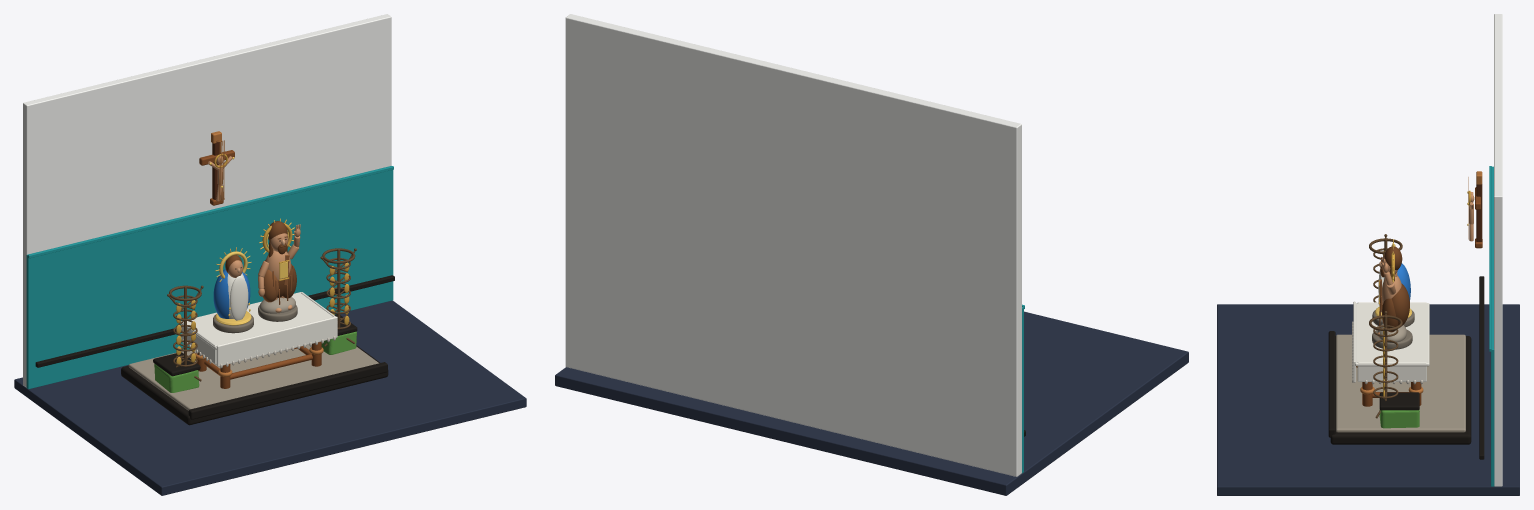
Rendered from christstatue.fbx.
The picture shows the model from 3 angles, left to right: view 1: azimuth 30°, elevation 25°; view 2: azimuth 150°, elevation 25°; view 3: azimuth 270°, elevation 25°; orthographic projection. The views are drawn at different scales.
Visible parts, largest first — view 1: WHITE BACK WALL, TEAL LOWER WALL, ROOM FLOOR, PLATFORM TOP, TABLE CLOTH FRONT, TABLE CLOTH TOP, PLATFORM FRONT EDGE, PLATFORM BLACK BASE, WALL COLOR BORDER, LOWER WALL TRIM, LEFT GREEN BLOCK, MARY BLUE CLOAK (+3 smaller); view 2: WHITE BACK WALL, ROOM FLOOR; view 3: ROOM FLOOR, PLATFORM TOP, WHITE BACK WALL, TABLE CLOTH TOP, PLATFORM BLACK BASE, LOWER WALL TRIM, TABLE CLOTH RIGHT, TEAL LOWER WALL, PLATFORM FRONT EDGE, RIGHT GREEN BLOCK, RIGHT BLOCK BLACK TOP, WALL COLOR BORDER (+3 smaller).
Part boxes in pixels (bbox=[...]): WHITE BACK WALL: bbox=[23, 14, 391, 387]; TEAL LOWER WALL: bbox=[26, 166, 393, 389]; ROOM FLOOR: bbox=[14, 300, 526, 495]; PLATFORM TOP: bbox=[128, 344, 378, 410]; TABLE CLOTH FRONT: bbox=[216, 316, 337, 366]; TABLE CLOTH TOP: bbox=[180, 292, 333, 349]; PLATFORM FRONT EDGE: bbox=[188, 362, 387, 419]; PLATFORM BLACK BASE: bbox=[121, 345, 388, 425]; WALL COLOR BORDER: bbox=[28, 166, 393, 258]; LOWER WALL TRIM: bbox=[35, 275, 394, 367]; LEFT GREEN BLOCK: bbox=[154, 364, 199, 392]; MARY BLUE CLOAK: bbox=[213, 269, 250, 318]; WHITE BACK WALL: bbox=[565, 14, 1021, 476]; ROOM FLOOR: bbox=[555, 311, 1188, 495]; ROOM FLOOR: bbox=[1217, 304, 1519, 495]; PLATFORM TOP: bbox=[1336, 334, 1465, 432]; WHITE BACK WALL: bbox=[1494, 14, 1502, 486]; TABLE CLOTH TOP: bbox=[1355, 303, 1429, 366]; PLATFORM BLACK BASE: bbox=[1330, 336, 1471, 444]; LOWER WALL TRIM: bbox=[1479, 276, 1484, 459]; TABLE CLOTH RIGHT: bbox=[1357, 362, 1426, 381]; TEAL LOWER WALL: bbox=[1491, 166, 1494, 486]; PLATFORM FRONT EDGE: bbox=[1328, 331, 1335, 437]; RIGHT GREEN BLOCK: bbox=[1379, 409, 1419, 428]; RIGHT BLOCK BLACK TOP: bbox=[1379, 392, 1419, 410]; WALL COLOR BORDER: bbox=[1489, 166, 1491, 351].
Size of the model in its own units: 1000 by 764 by 700.
